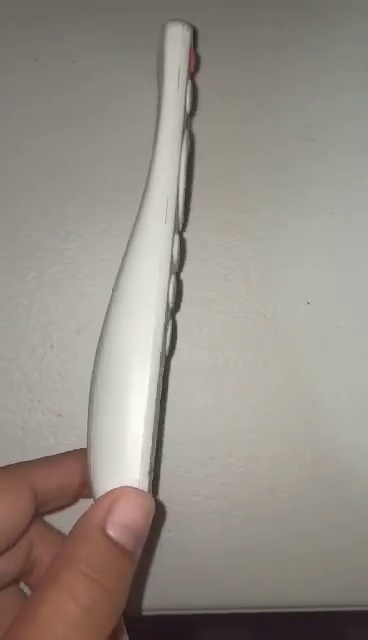remote: (89, 21, 197, 519)
